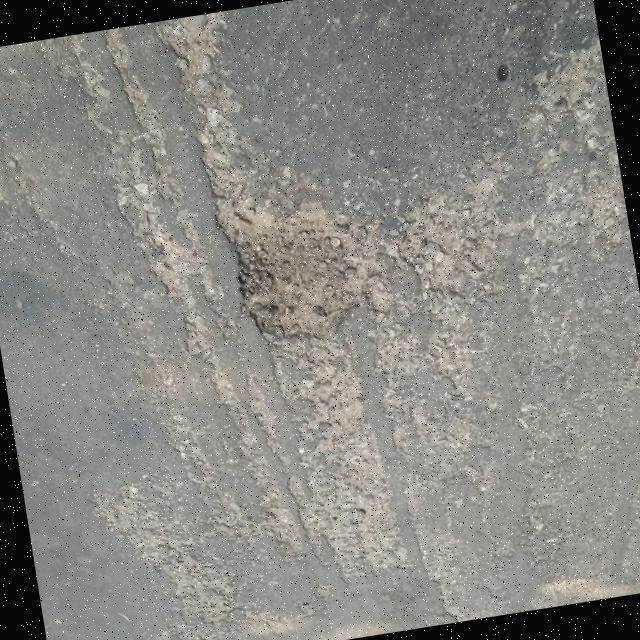Pothole: (214, 196, 400, 345)
